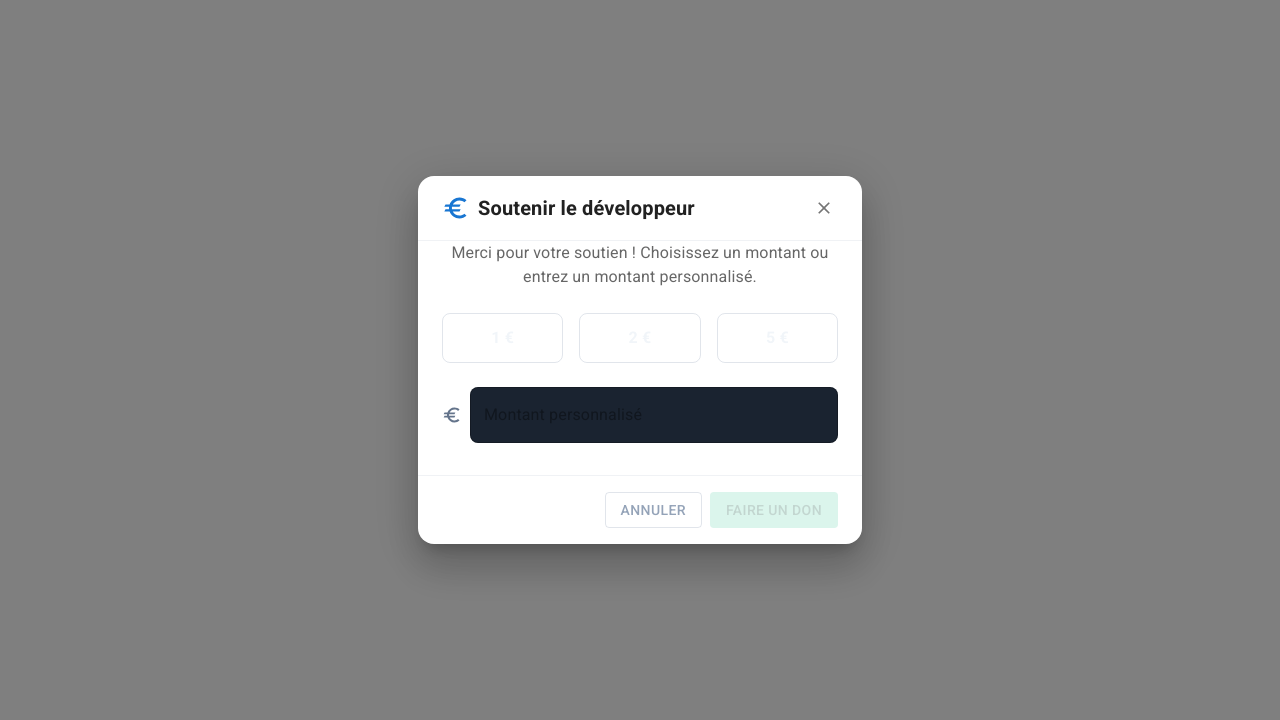
Test: DonationDialog › submit button is enabled when amount selected
Use getAllByText and take the first button
Step 1. Click the button "1 €" → (503, 338), box [442,313,563,363]
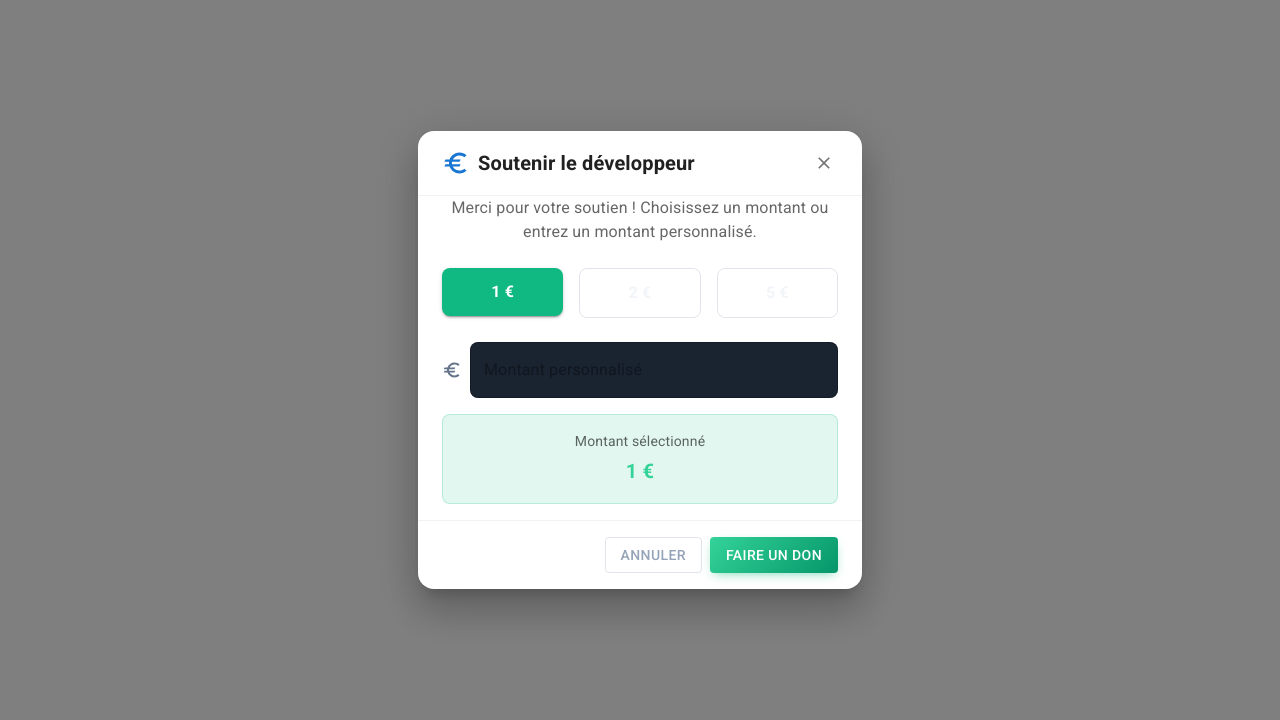
expect the button "Faire un don" is enabled: met, box [710,537,838,573]
